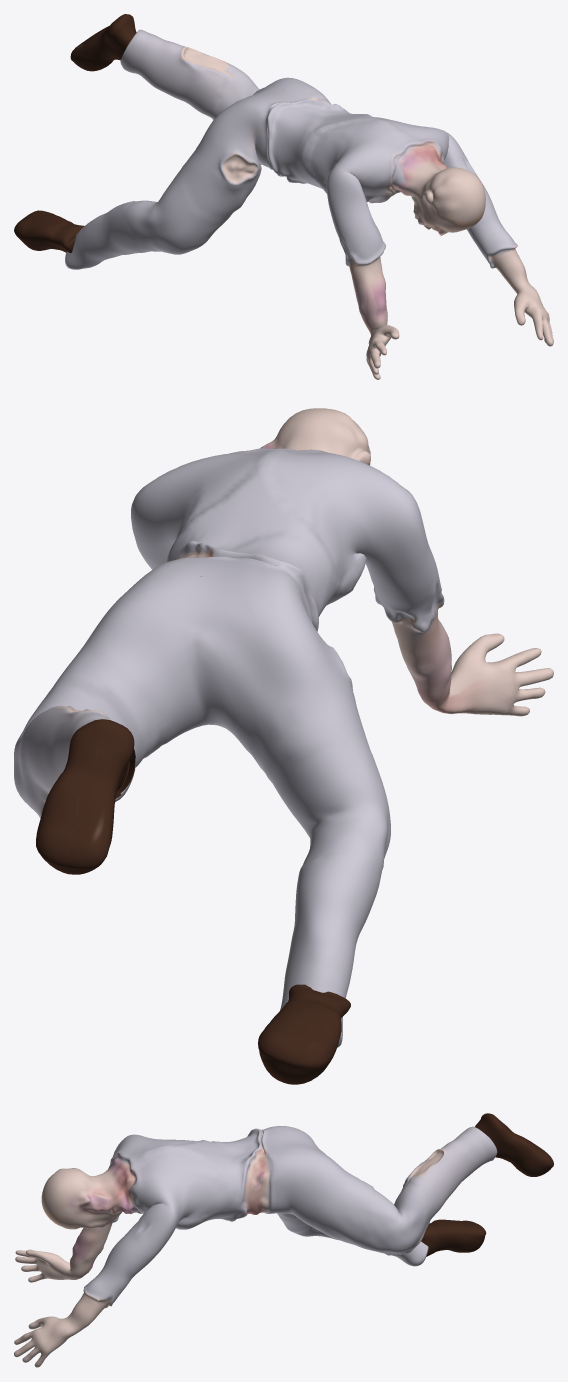
File: deadtestsubvar2.fbx
3 views of the same model, one above another, from view 1: azimuth 30°, elevation 25°; view 2: azimuth 150°, elevation 25°; view 3: azimuth 270°, elevation 25° (orthographic). The views are drawn at different scales.
Parts seen in each view (by area): view 1: TestSubject; view 2: TestSubject; view 3: TestSubject.
Boxes of the visible parts, left/top/right/bottom form: TestSubject: left=14, top=14, right=553, bottom=379; TestSubject: left=14, top=408, right=553, bottom=1084; TestSubject: left=14, top=1113, right=553, bottom=1367.
Bounding box in the file's own units: 2.01 × 1.19 × 0.7754.
